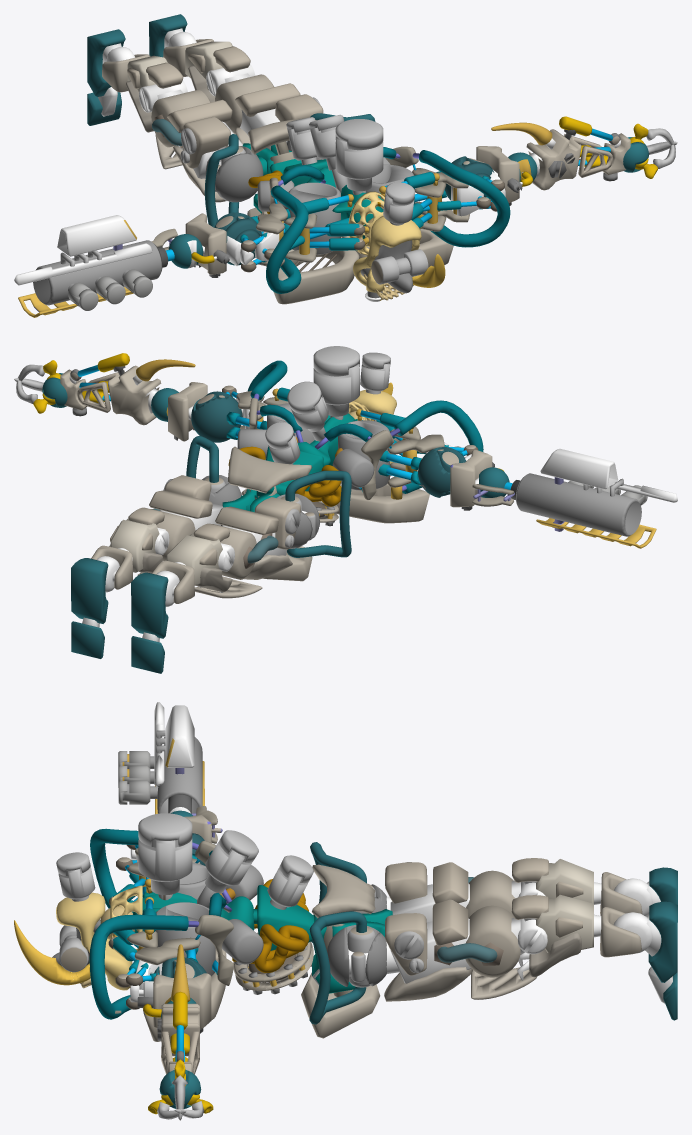
The picture shows the model from 3 angles, top to bottom: view 1: azimuth 30°, elevation 25°; view 2: azimuth 150°, elevation 25°; view 3: azimuth 270°, elevation 25°; orthographic projection. The views are drawn at different scales.
Visible parts, largest first — view 1: Figure_2_geometry; view 2: Figure_2_geometry; view 3: Figure_2_geometry.
Boxes of the visible parts, x1,y1,x2,y2 form: Figure_2_geometry: [14, 14, 677, 317]; Figure_2_geometry: [14, 346, 677, 673]; Figure_2_geometry: [14, 702, 677, 1120].
Bounding box in the file's own units: 2.41 × 0.5971 × 1.84.
